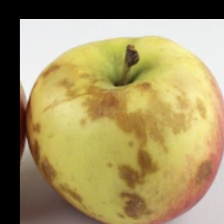apple: (40, 38, 175, 203)
